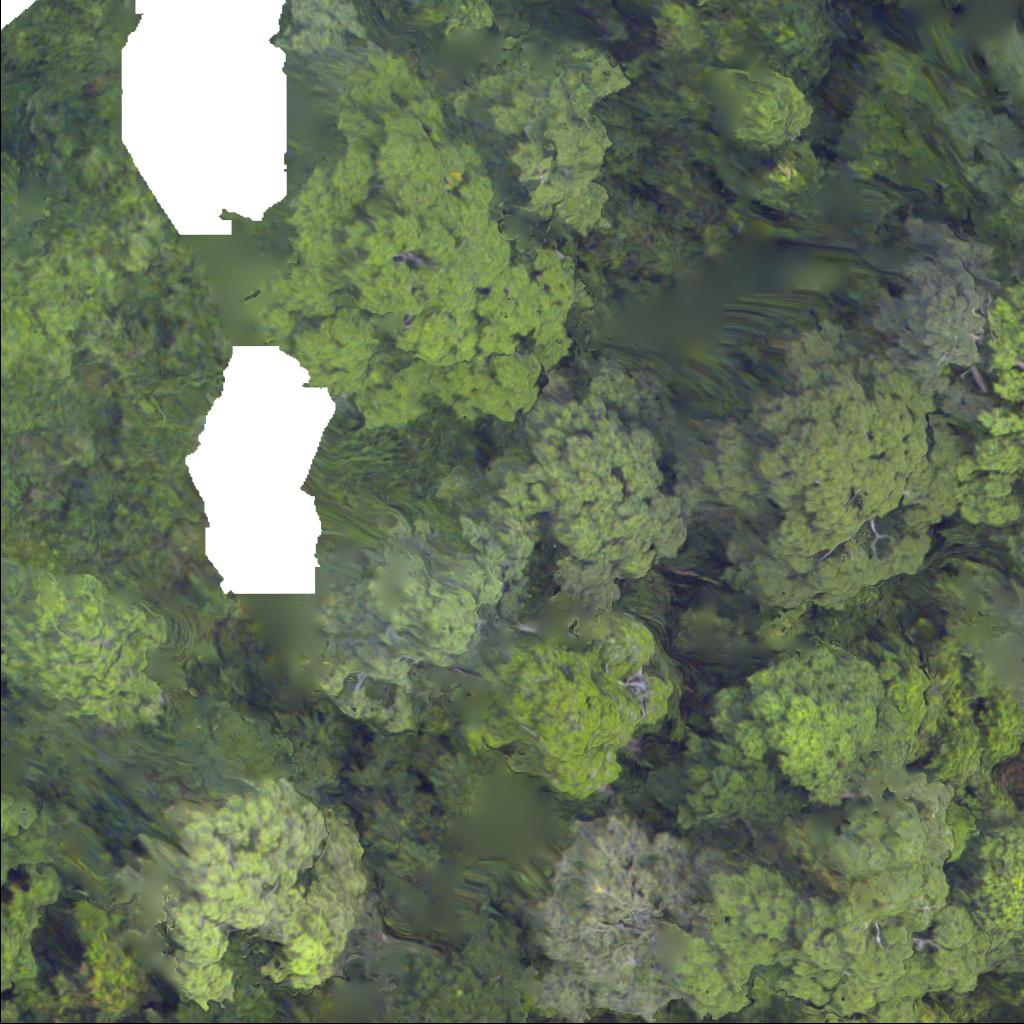crown: (702, 320, 973, 612), (512, 825, 708, 1023), (527, 410, 690, 564), (957, 306, 1023, 535), (959, 817, 1023, 983)
